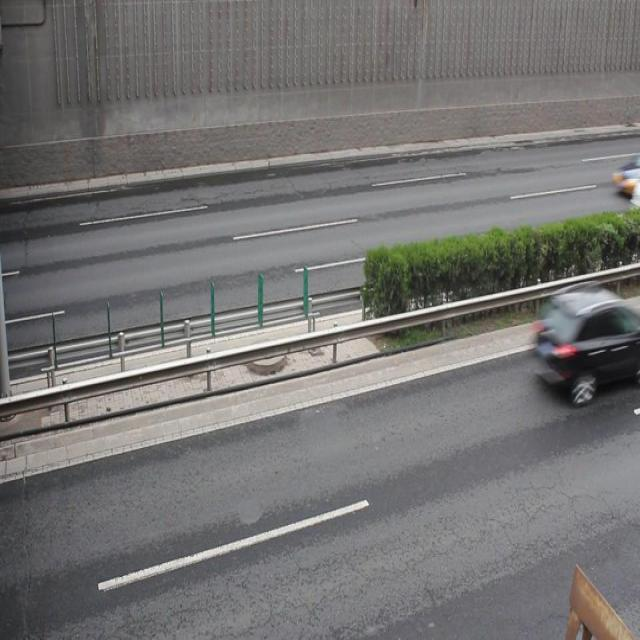car: (528, 283, 632, 401)
